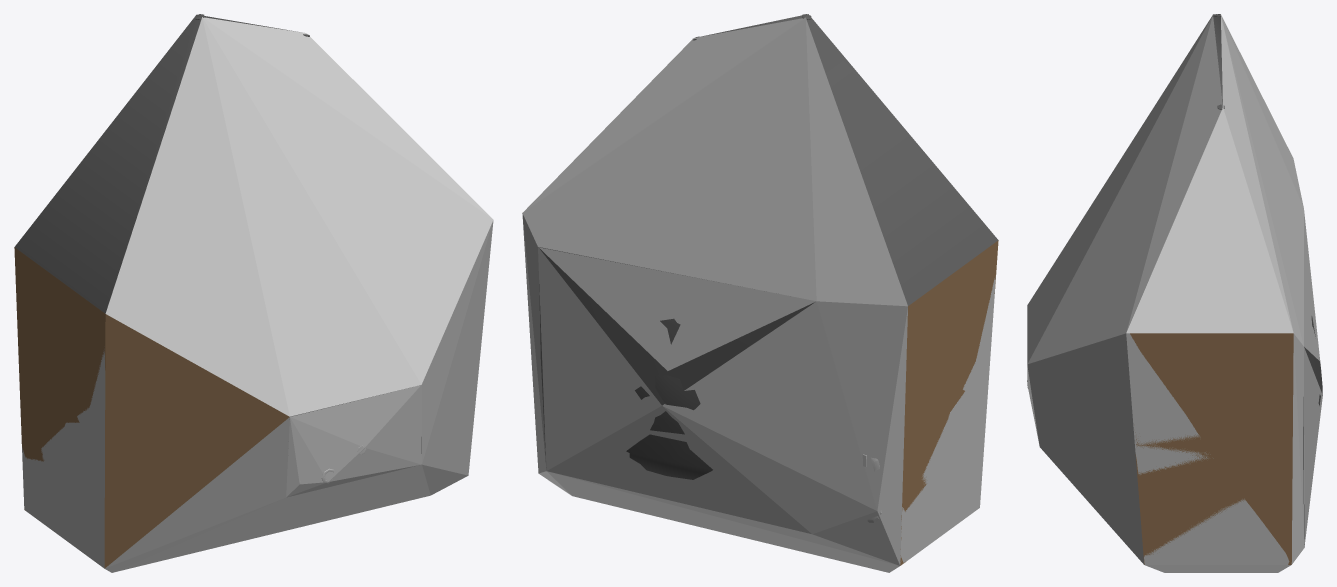
3 renders of one model, left to right at view 1: azimuth 30°, elevation 25°; view 2: azimuth 150°, elevation 25°; view 3: azimuth 270°, elevation 25°, orthographic. The views are drawn at different scales.
Visible parts, largest first — view 1: c_tv, tv; view 2: c_tv, tv; view 3: c_tv, tv.
Boxes of the visible parts, <box> form: c_tv: <box>15,14,493,572</box>; tv: <box>14,14,421,510</box>; c_tv: <box>522,14,998,572</box>; tv: <box>539,14,998,565</box>; c_tv: <box>1027,14,1322,572</box>; tv: <box>1027,14,1322,564</box>.
Bounding box in the file's own units: 78.7 × 98.57 × 56.5.
